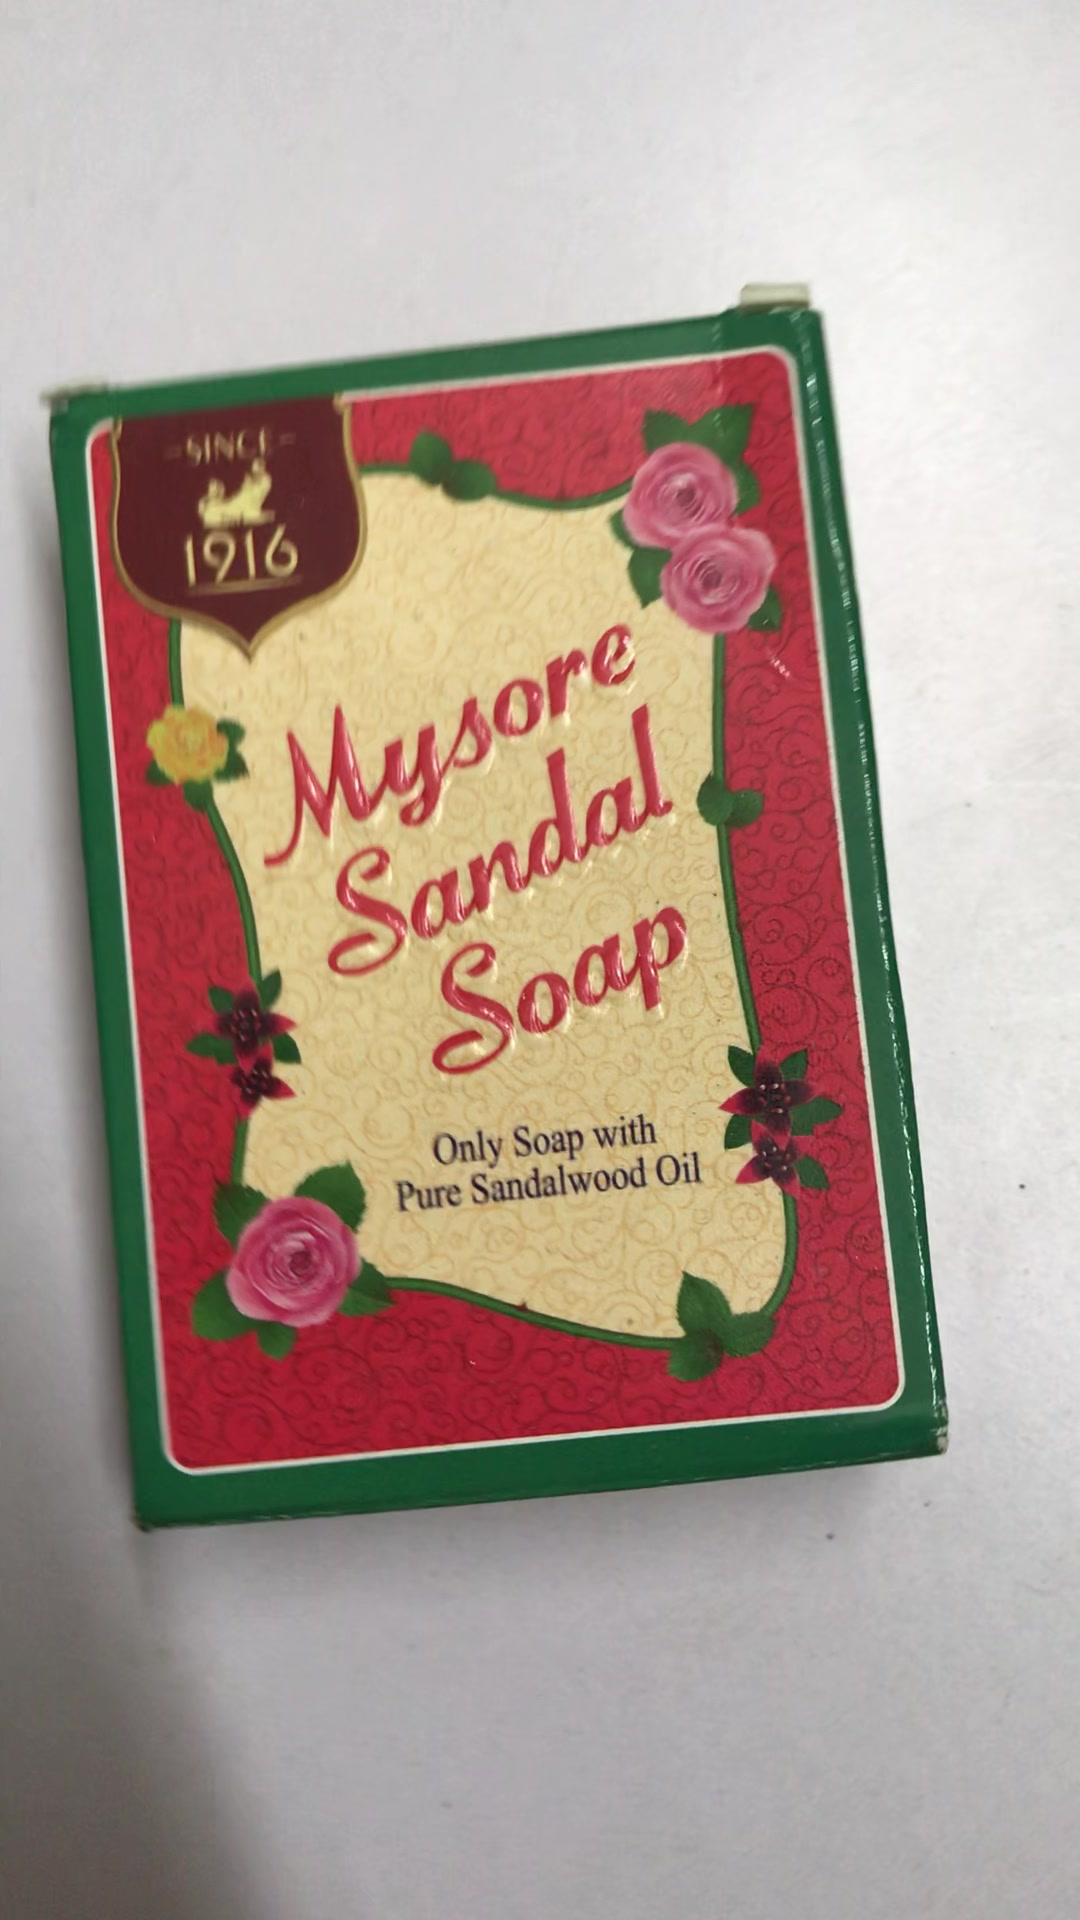mysore sandal soap: (47, 305, 949, 1534)
